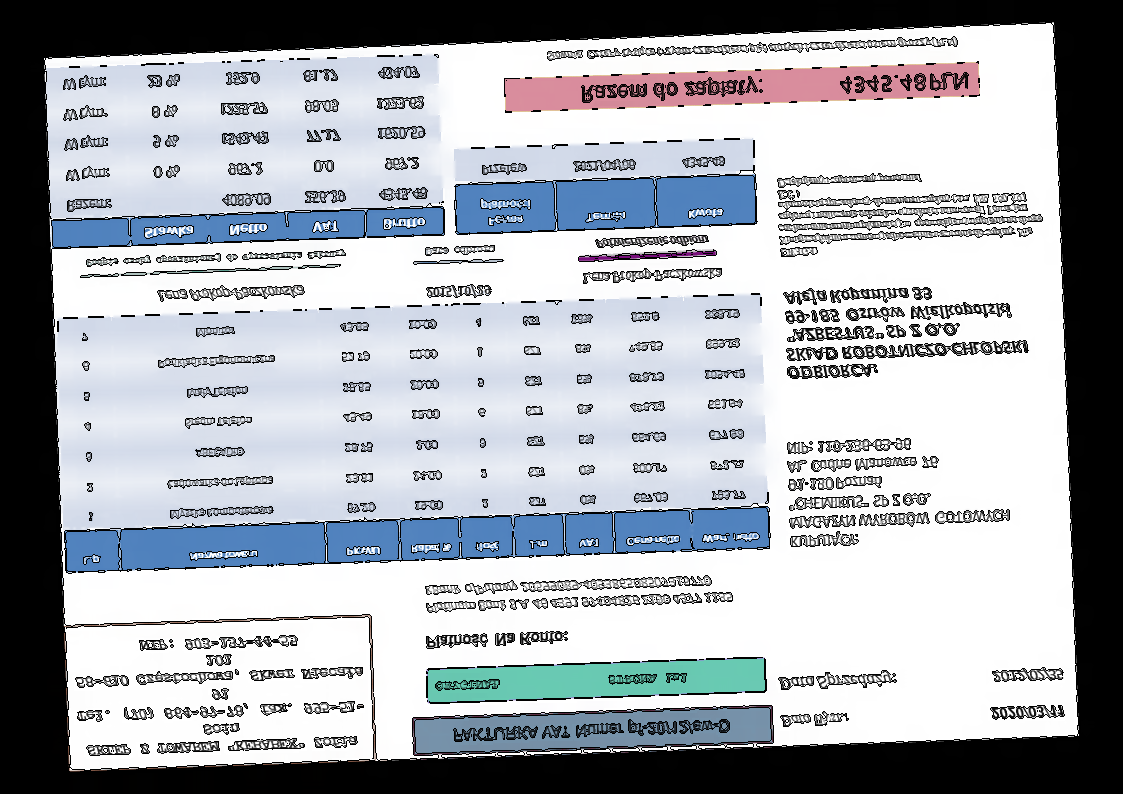Table: (55, 292, 772, 574), (45, 52, 446, 250), (452, 137, 759, 236)
TextBox: (70, 632, 369, 759), (784, 432, 1014, 552), (775, 166, 1047, 260), (782, 280, 1030, 382), (580, 68, 970, 105), (422, 572, 735, 616), (545, 35, 960, 63), (450, 714, 734, 747), (434, 670, 691, 694), (83, 248, 347, 269), (156, 282, 306, 305), (424, 628, 571, 651), (579, 265, 722, 287), (777, 669, 900, 692), (593, 233, 709, 252), (990, 703, 1066, 722), (990, 666, 1065, 685), (779, 710, 850, 730), (425, 281, 493, 301), (423, 243, 496, 259)
